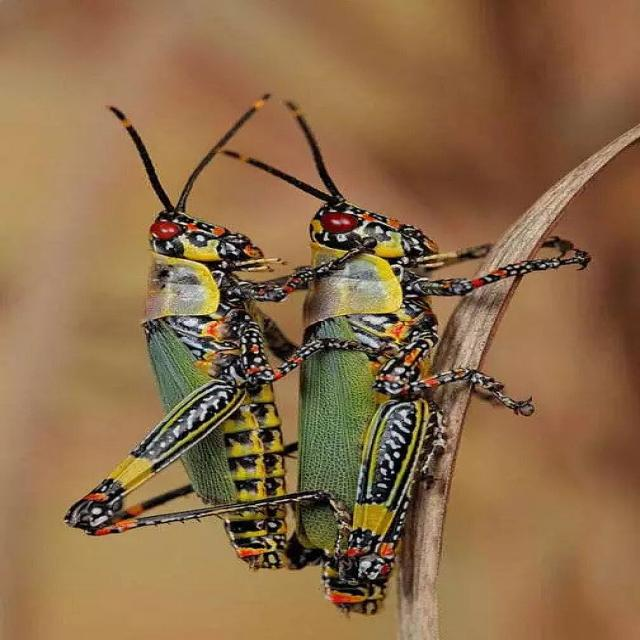ZhaMeng: (281, 166, 493, 596), (110, 170, 300, 583)
